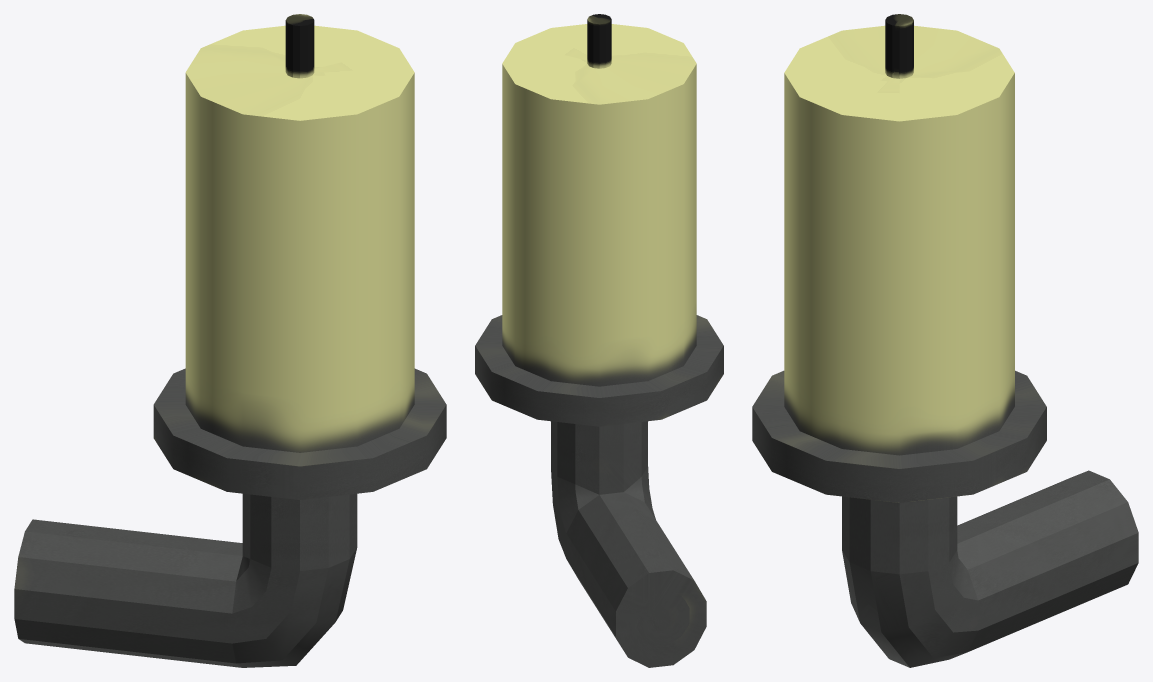
File: CandleSconce.FBX
3 renders of one model, left to right at view 1: azimuth 30°, elevation 25°; view 2: azimuth 150°, elevation 25°; view 3: azimuth 270°, elevation 25°, orthographic. The views are drawn at different scales.
Visible parts, largest first — view 1: Cylinder010; view 2: Cylinder010; view 3: Cylinder010.
Part boxes in pixels (x1,y1,x2,y2): Cylinder010: (14, 14, 446, 667); Cylinder010: (475, 14, 723, 667); Cylinder010: (752, 14, 1138, 667).
Size of the model in its own units: 0.3474 by 0.6464 by 0.3474.
Materials: 1 (1 with a texture image).
